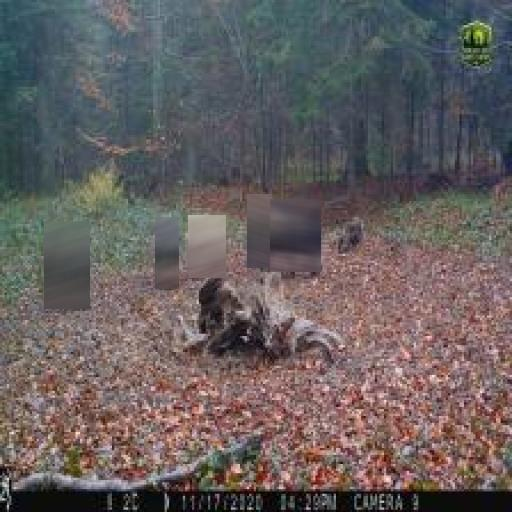Pig: (44, 222, 90, 310), (270, 199, 321, 272), (188, 215, 226, 278), (247, 194, 272, 268), (156, 217, 180, 289)
